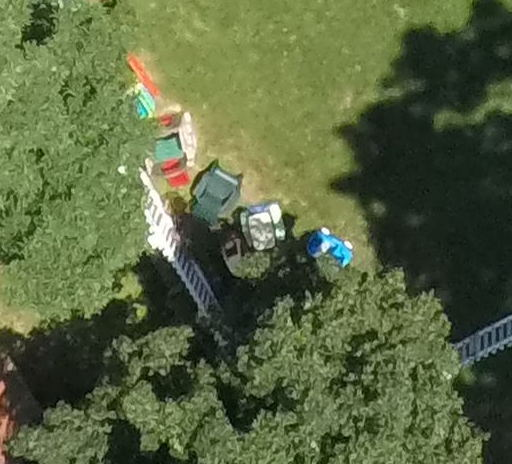toy: (302, 220, 357, 264)
